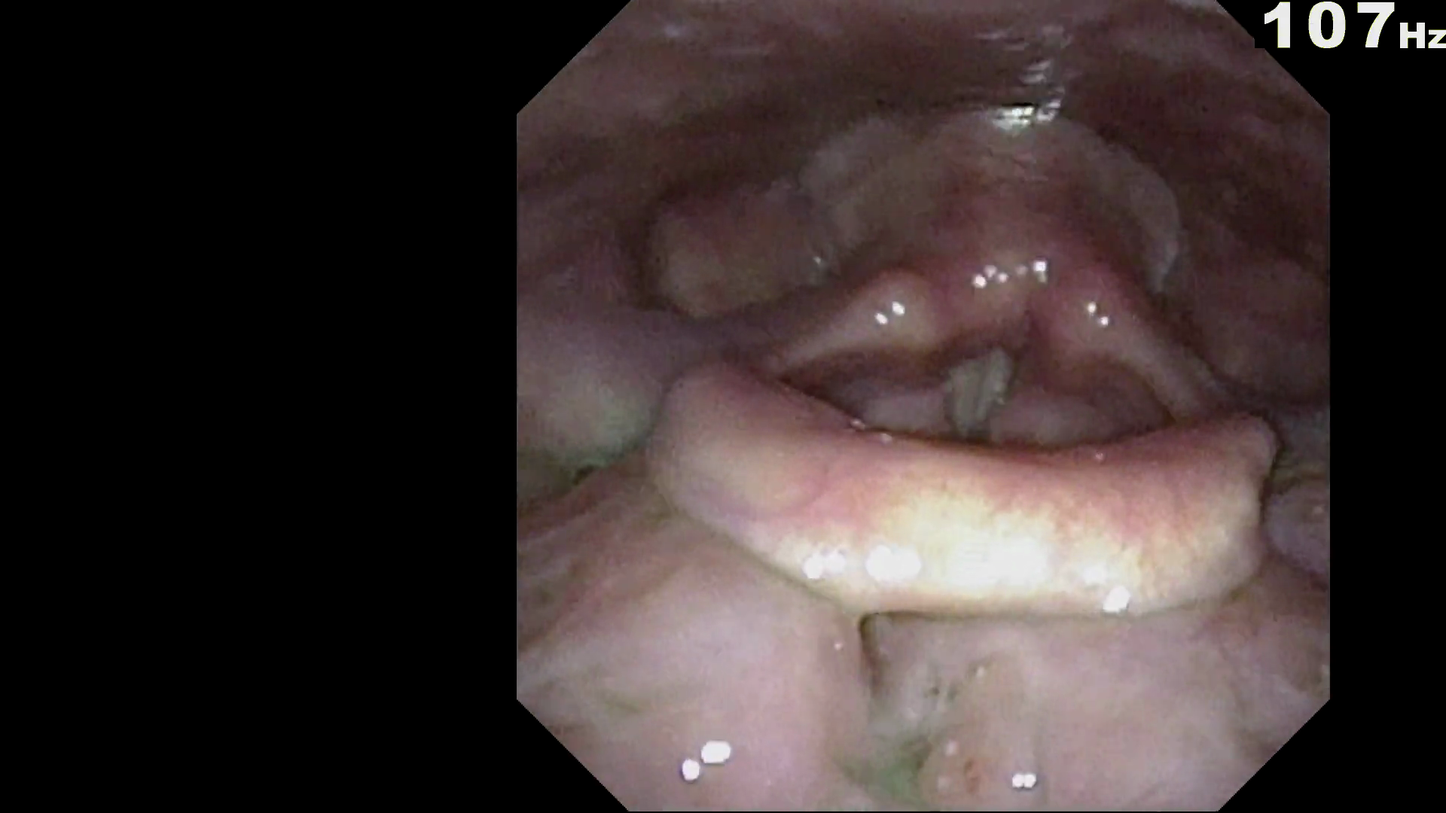epiglottis: (636, 371, 1285, 626)
trachea: (931, 327, 1027, 448)
